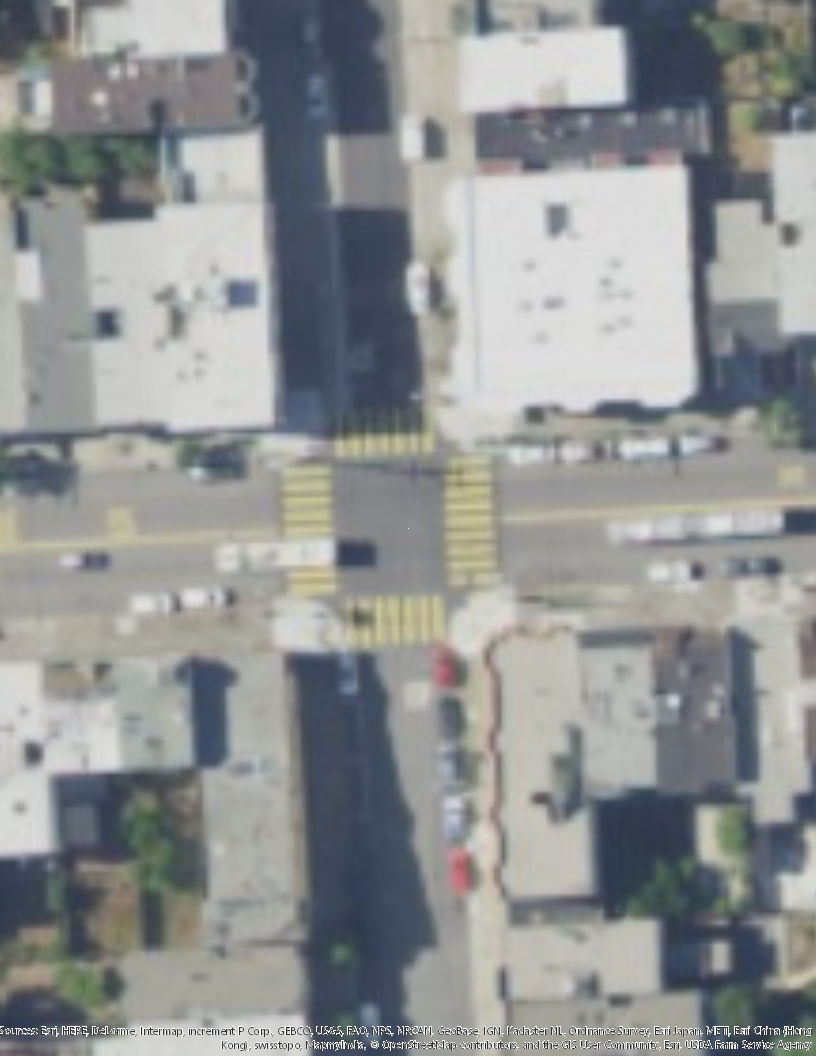zebracross: (442, 457, 496, 591), (279, 467, 338, 589), (338, 408, 437, 459), (341, 596, 443, 645)
